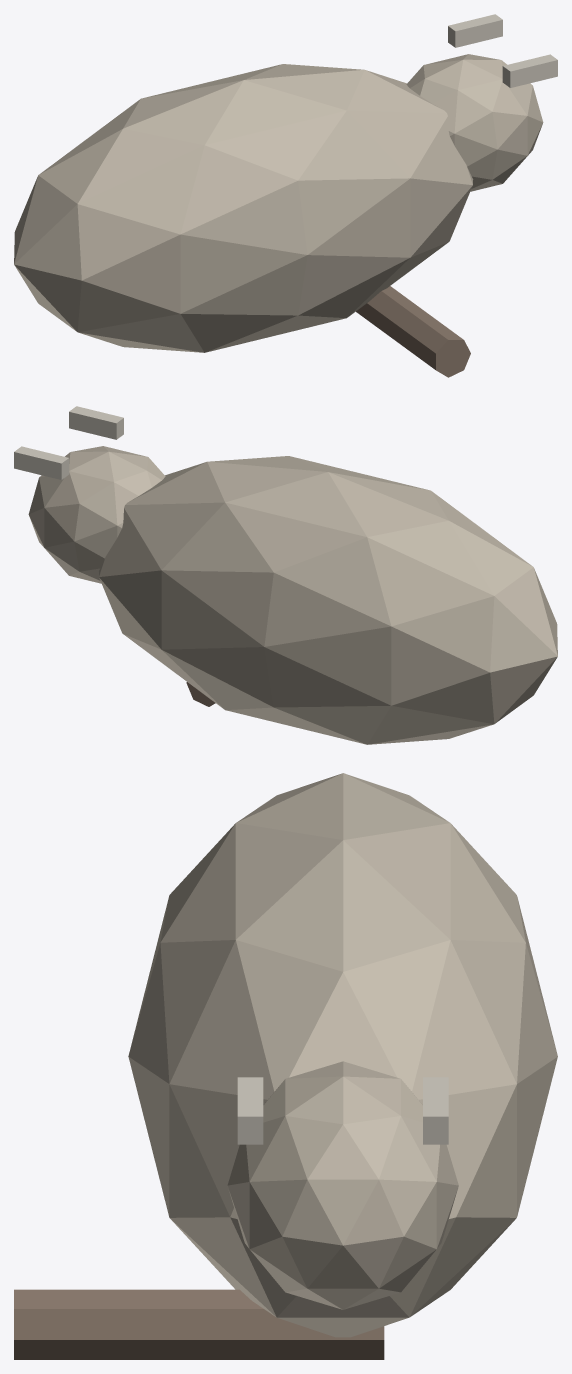
The model's file is cow-eco.glb.
The picture shows the model from 3 angles, top to bottom: view 1: azimuth 30°, elevation 25°; view 2: azimuth 150°, elevation 25°; view 3: azimuth 270°, elevation 25°; orthographic projection. The views are drawn at different scales.
Parts seen in each view (by area): view 1: body, head, leg, horn2, horn; view 2: body, head, horn, horn2; view 3: body, head, leg, horn2, horn.
Boxes of the visible parts, x1=… form: body: x1=14, y1=64, x2=473, y2=352; head: x1=406, y1=54, x2=543, y2=191; leg: x1=356, y1=286, x2=470, y2=377; horn2: x1=502, y1=54, x2=557, y2=87; horn: x1=448, y1=14, x2=502, y2=47; body: x1=99, y1=456, x2=557, y2=744; head: x1=28, y1=446, x2=165, y2=583; horn: x1=14, y1=446, x2=69, y2=479; horn2: x1=69, y1=406, x2=123, y2=439; body: x1=128, y1=773, x2=557, y2=1337; head: x1=227, y1=1061, x2=458, y2=1309; leg: x1=14, y1=1289, x2=384, y2=1359; horn2: x1=237, y1=1077, x2=263, y2=1144; horn: x1=423, y1=1077, x2=448, y2=1144.
Bounding box in the file's own units: 1.98 × 0.928 × 1.06.
